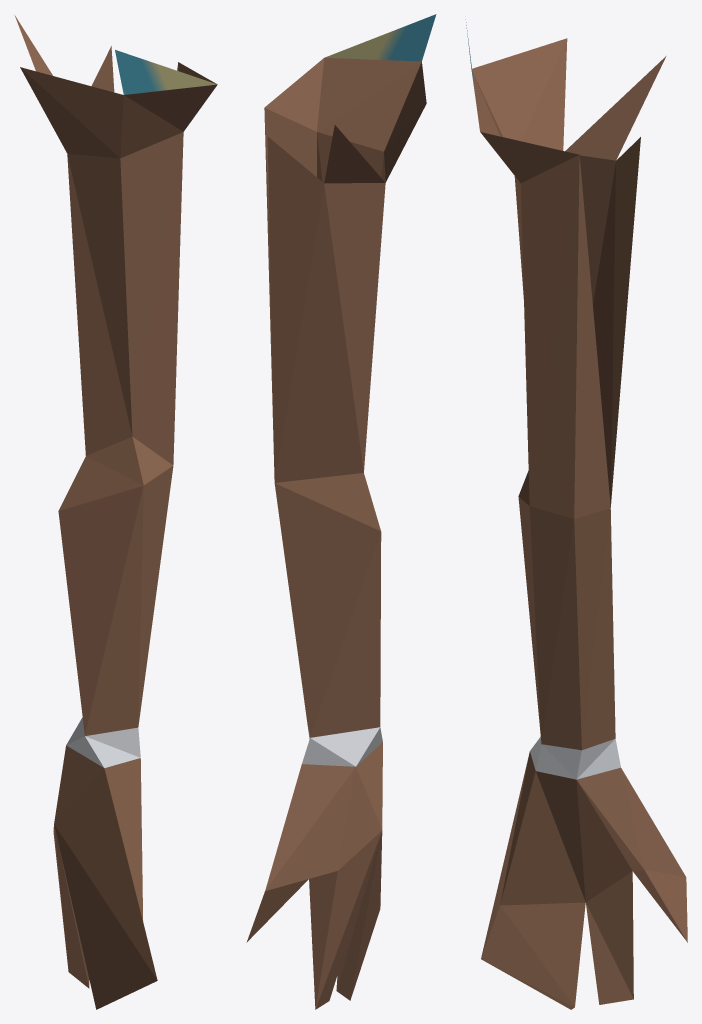
Rendered from ArmL.obj.
The picture shows the model from 3 angles, left to right: view 1: azimuth 30°, elevation 25°; view 2: azimuth 150°, elevation 25°; view 3: azimuth 270°, elevation 25°; orthographic projection. The views are drawn at different scales.
Size of the model in its own units: 0.1554 by 0.9099 by 0.1876.
Materials: 1 (1 with a texture image).
